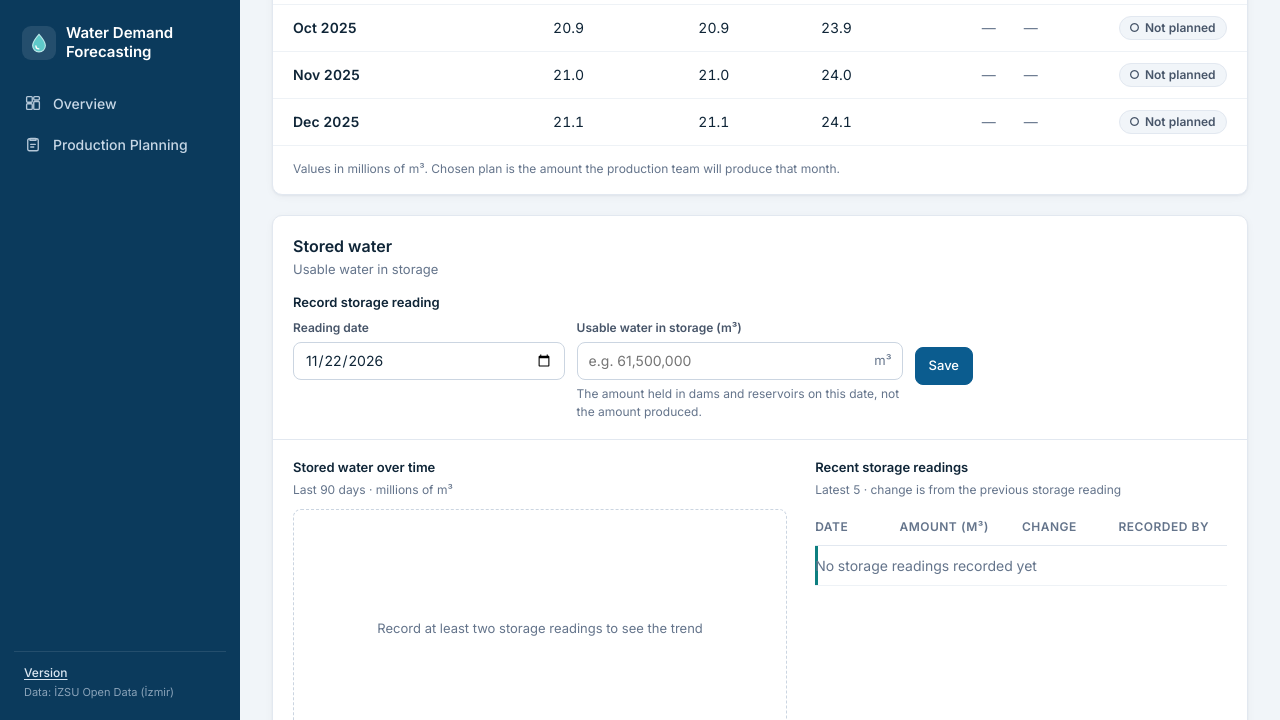
Test: a 409 reading_exists shows the replace confirmation, and "Replace reading" resends with correction_reason
(page scrolled)
In the date field labelled "Reading date": {"x": 429, "y": 361} [293,342,565,380], type "2025-02-01"
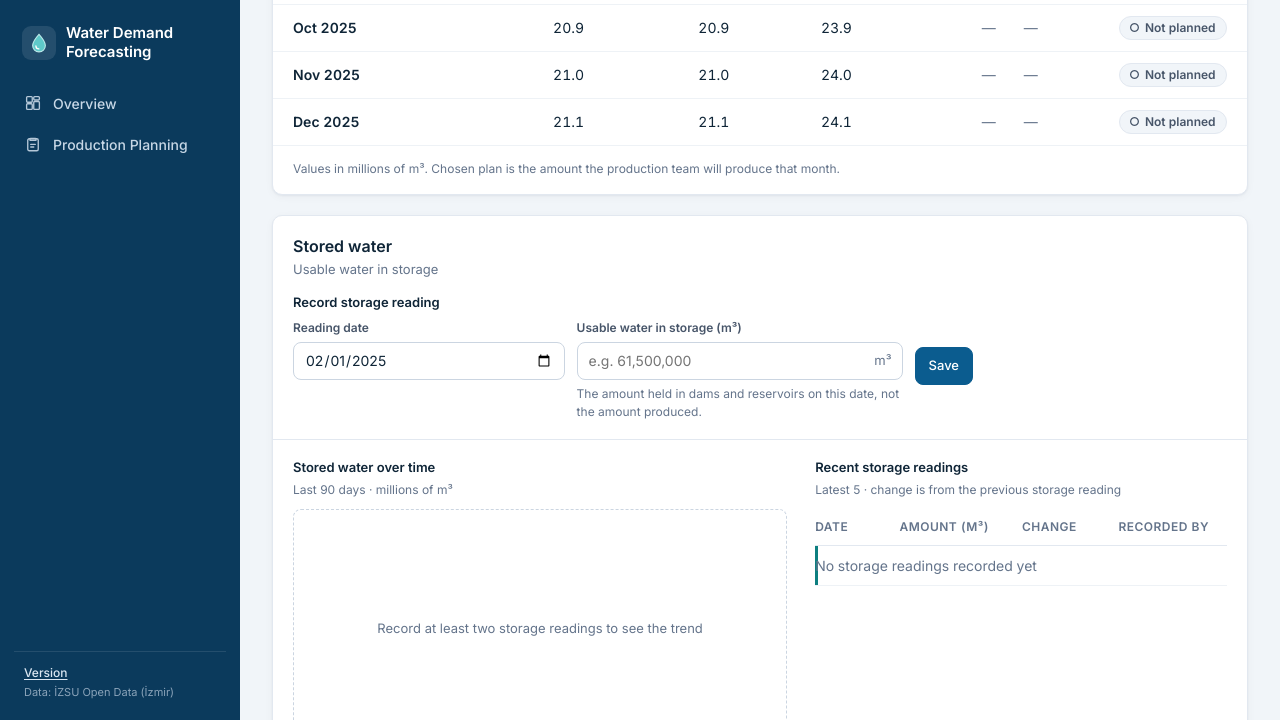
In the field labelled "Usable water in storage (m³)": {"x": 740, "y": 361} [577,342,902,380], type "61500000"
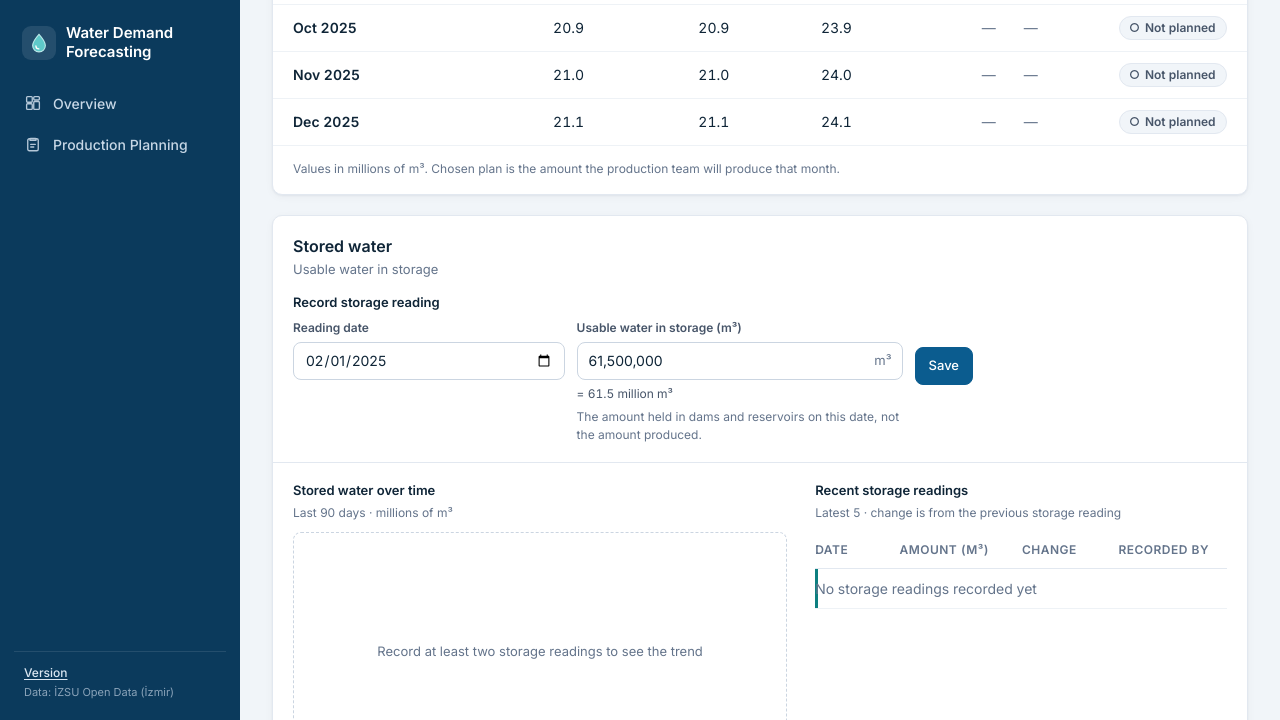
Click the button "Save": {"x": 944, "y": 366} [914,347,973,385]
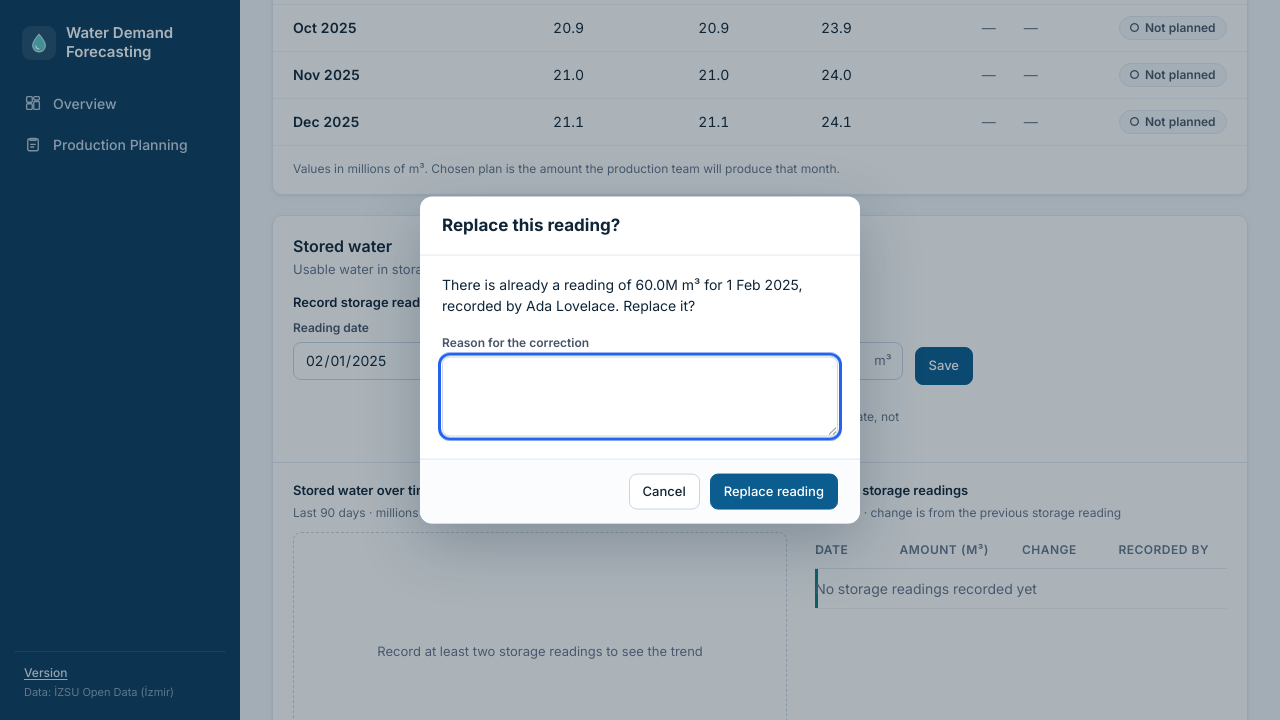
Expected: the text "There is already a reading of 60.0M m³ for 1 Feb 2025, recorded by Ada Lovelace. Replace it?" is shown, [442,273,838,315]
In the text box labelled "Reason for the correction": {"x": 640, "y": 397} [442,356,838,437], type "First entry had a typo in the amount."
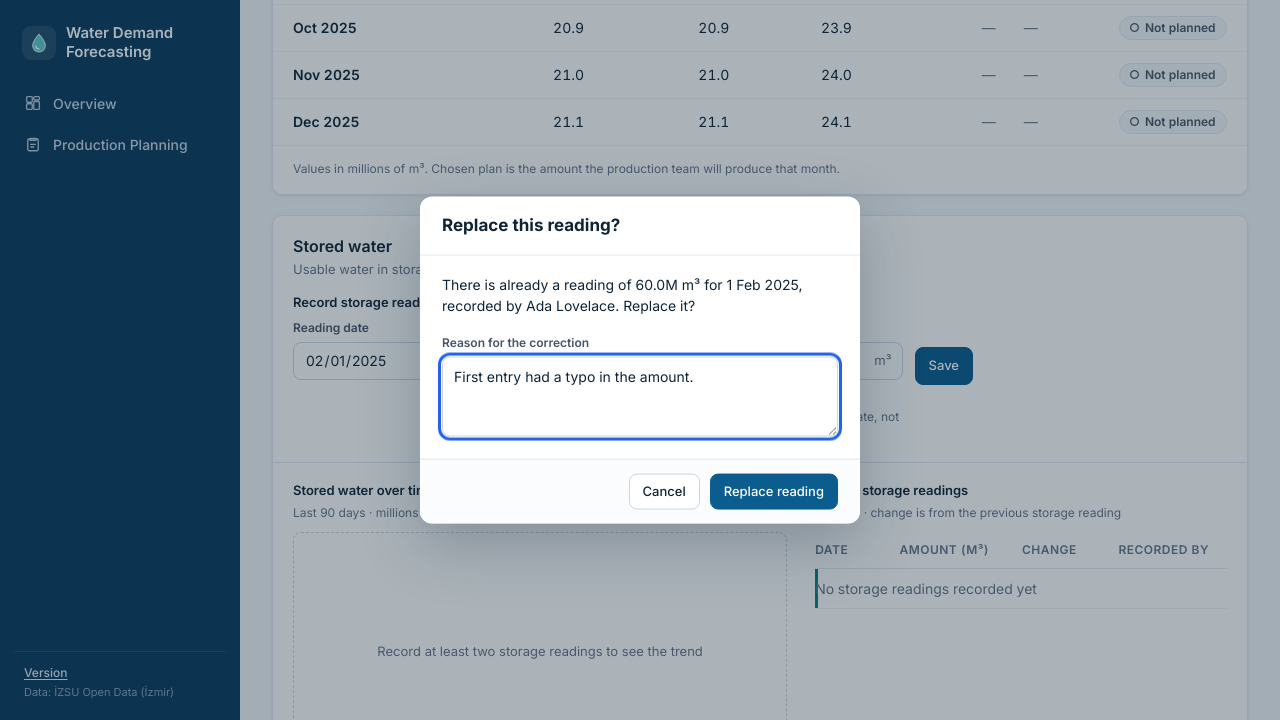
Click the button "Replace reading": {"x": 774, "y": 492} [710,474,838,509]
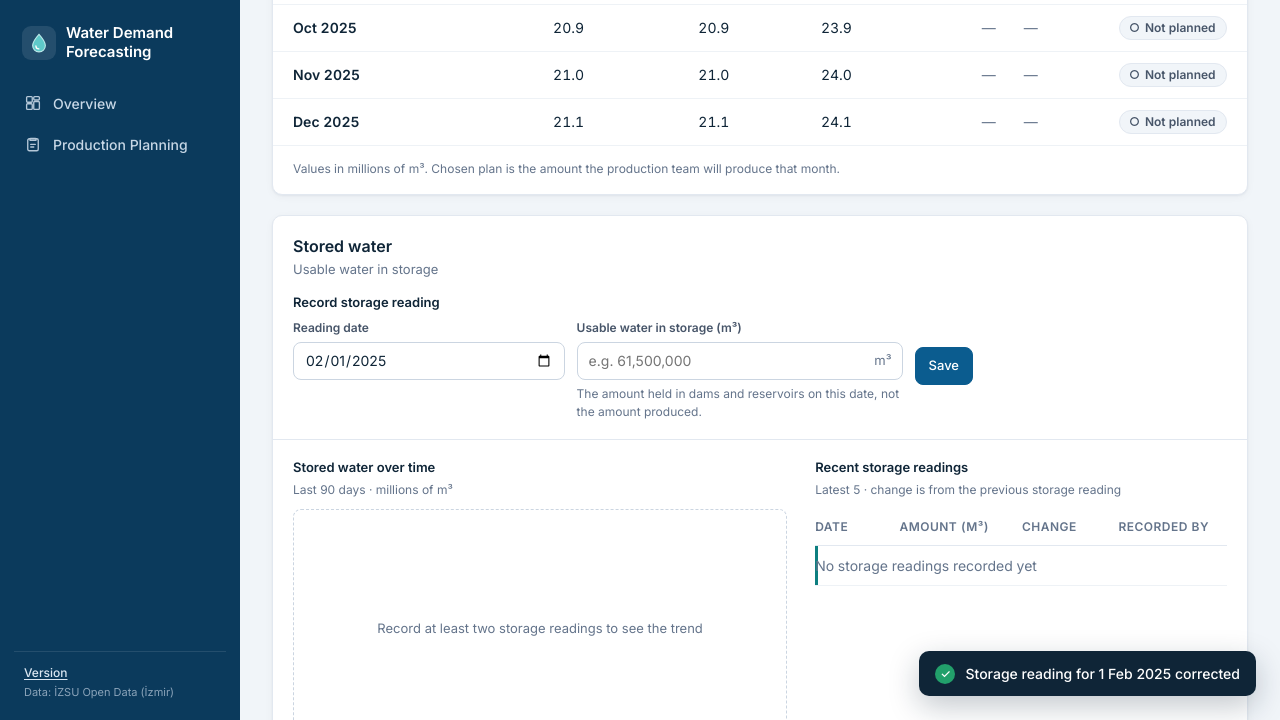
Expected: the heading "Replace this reading?" is gone
Expected: the text "Storage reading for 1 Feb 2025 corrected" is shown, [966,663,1240,684]
